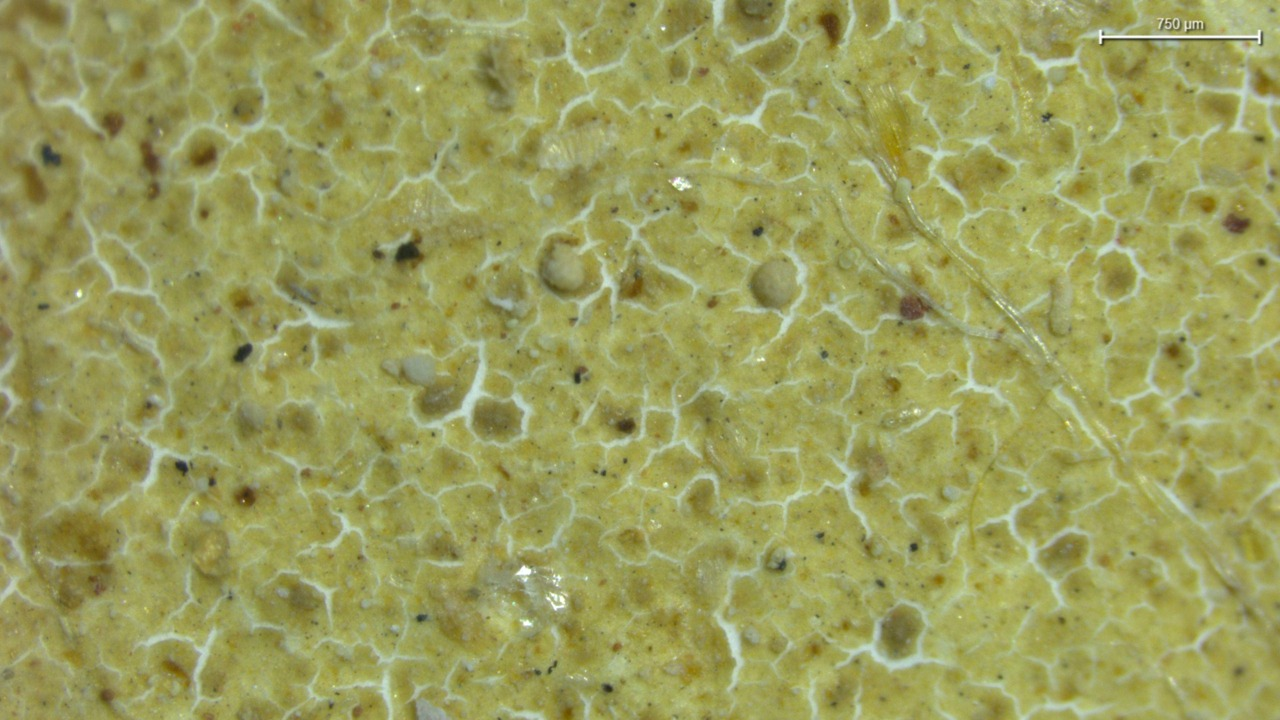microplastic_fragment: (540, 241, 584, 292), (402, 355, 435, 386)
